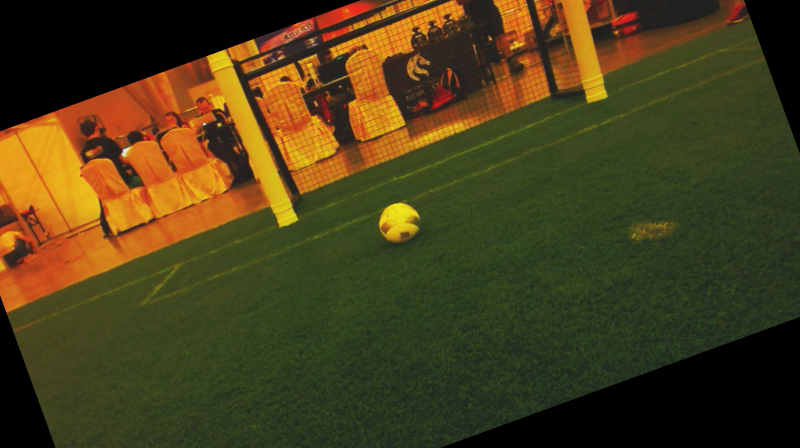post: (566, 69, 619, 114), (263, 190, 307, 237)
